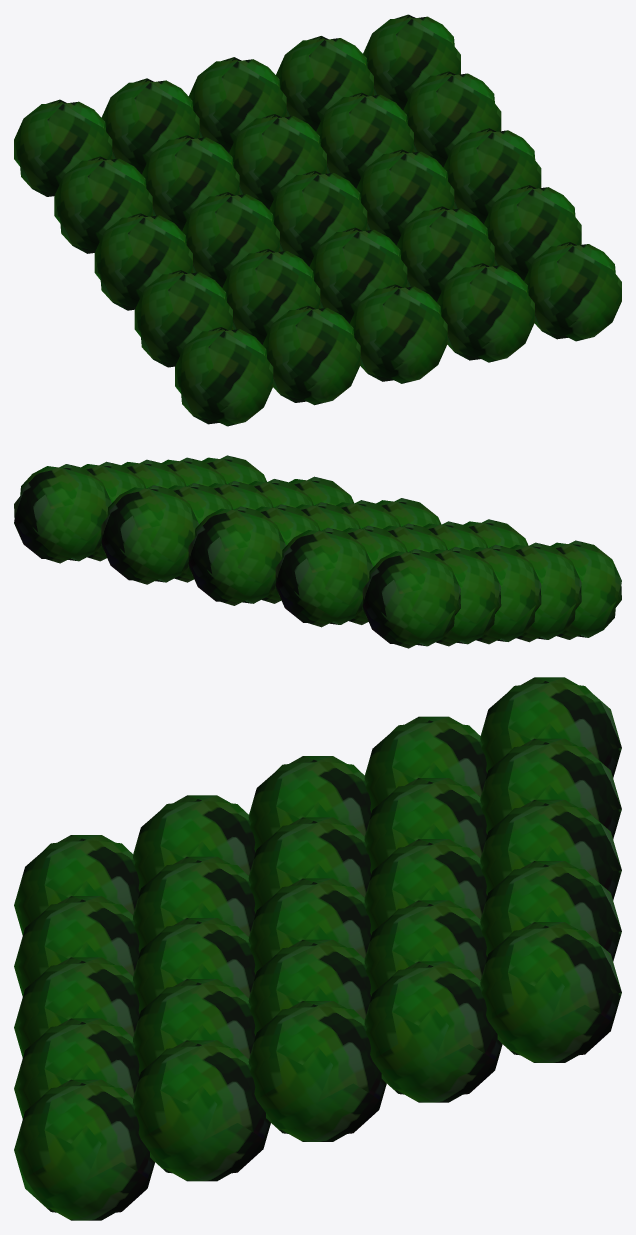
Rendered from Fruta1.fbx.
3 renders of one model, top to bottom at view 1: azimuth 30°, elevation 25°; view 2: azimuth 150°, elevation 25°; view 3: azimuth 270°, elevation 25°, orthographic. The views are drawn at different scales.
Parts seen in each view (by area): view 1: Cube.023; view 2: Cube.023; view 3: Cube.023.
Boxes of the visible parts, box(x1,y1,x2,y2) form: Cube.023: box(14, 14, 621, 426); Cube.023: box(14, 455, 621, 648); Cube.023: box(14, 677, 621, 1220).
Bounding box in the file's own units: 44 × 19.36 × 36.96.
1 material, 1 textured.
